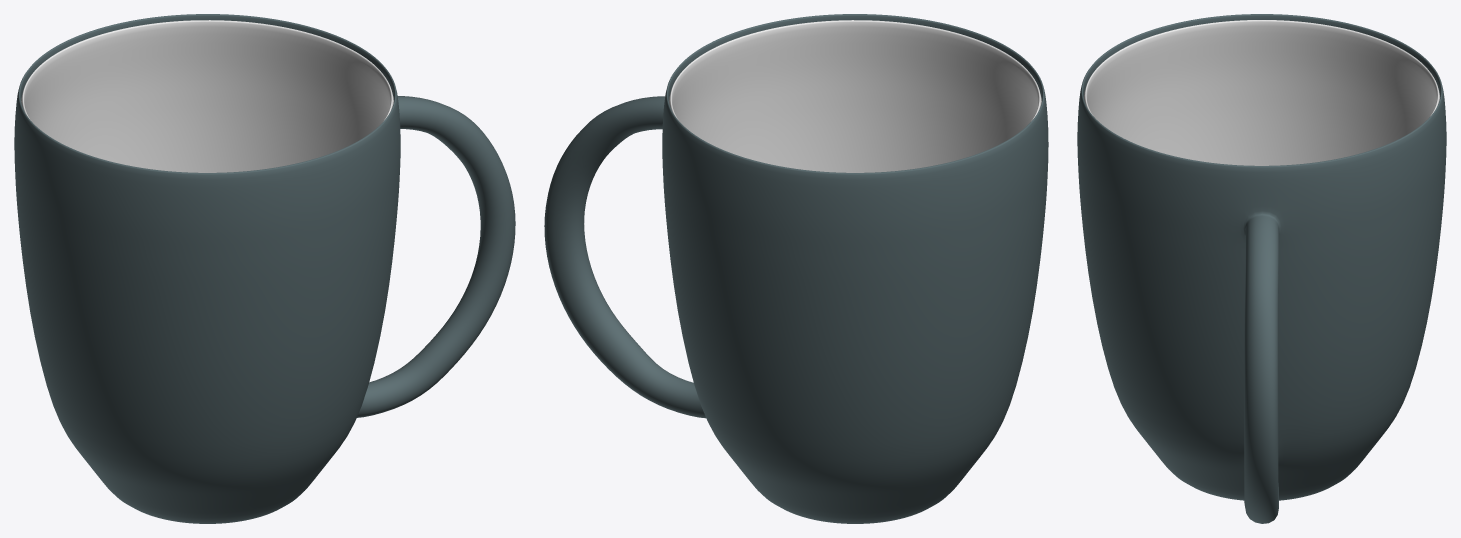
File: Cup.fbx
The picture shows the model from 3 angles, left to right: view 1: azimuth 30°, elevation 25°; view 2: azimuth 150°, elevation 25°; view 3: azimuth 270°, elevation 25°; orthographic projection. The views are drawn at different scales.
Parts seen in each view (by area): view 1: Cup; view 2: Cup; view 3: Cup.
Boxes of the visible parts, x1=… form: Cup: x1=14, y1=14, x2=515, y2=523; Cup: x1=544, y1=14, x2=1048, y2=523; Cup: x1=1077, y1=14, x2=1446, y2=523.
Bounding box in the file's own units: 408 × 330 × 288.
